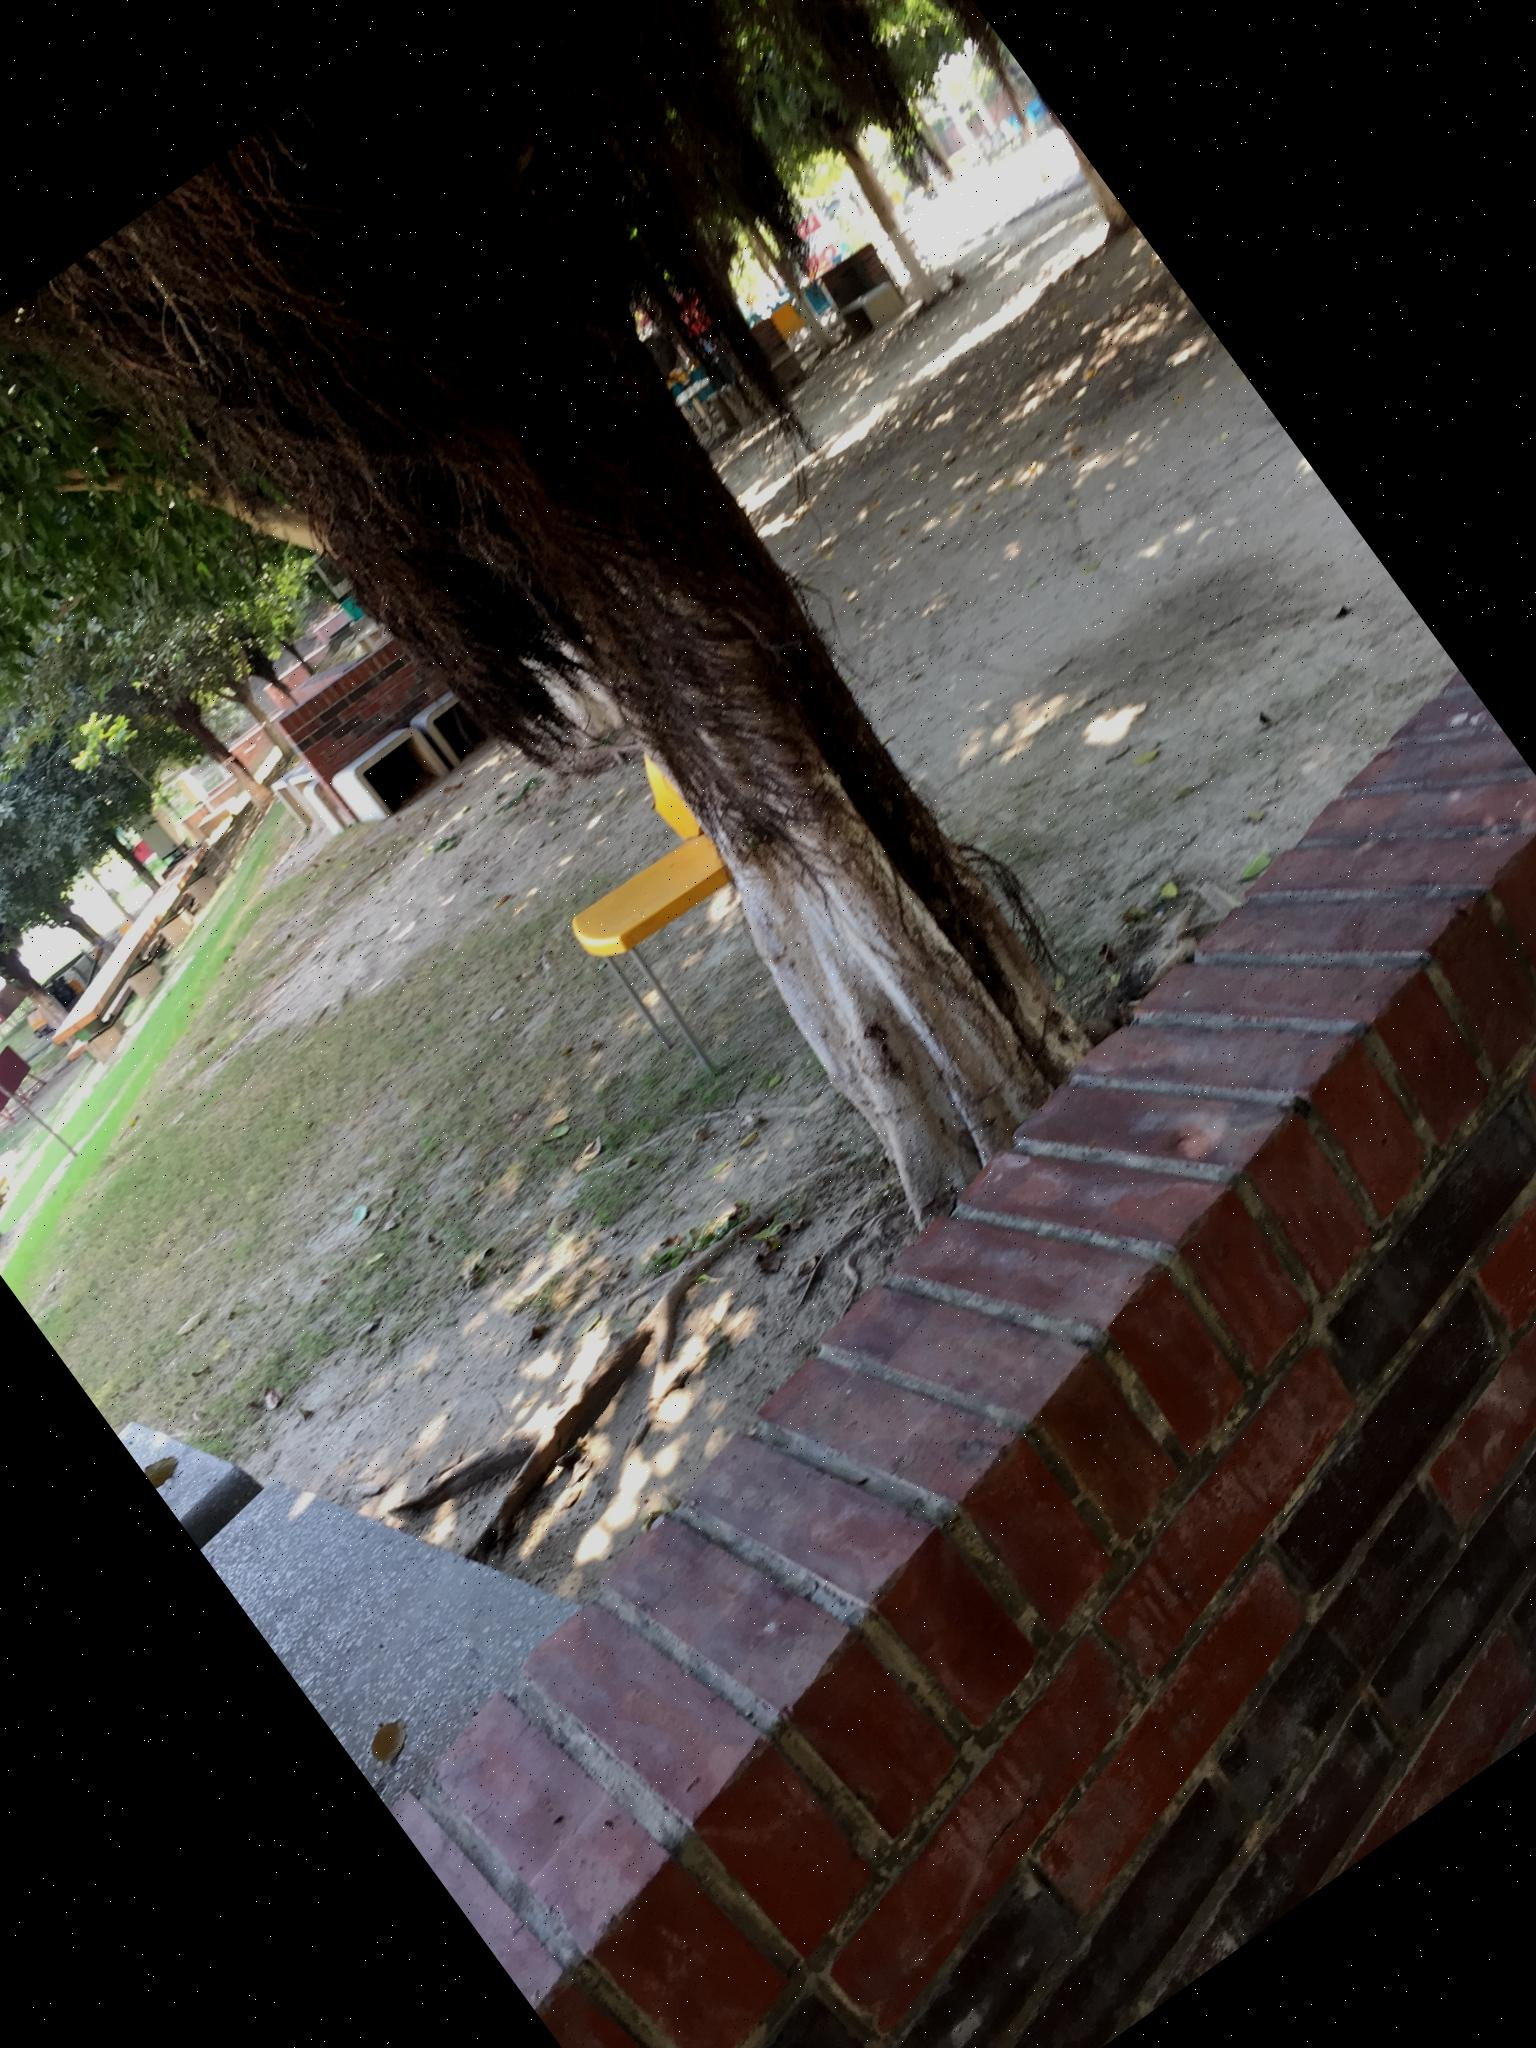chair: (508, 747, 829, 1095)
